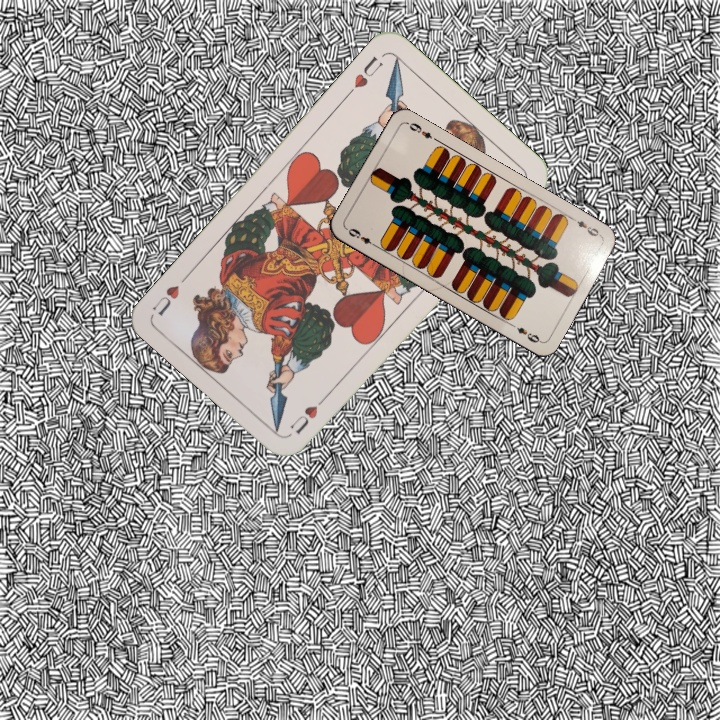E9: (342, 224, 380, 250), (567, 213, 604, 239)
HU: (286, 390, 332, 436), (343, 52, 386, 99)
